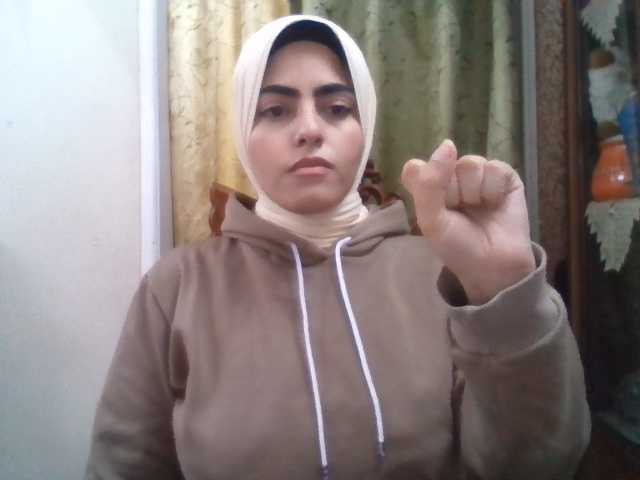S: (402, 140, 532, 279)
